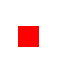square: (18, 26, 38, 46)
